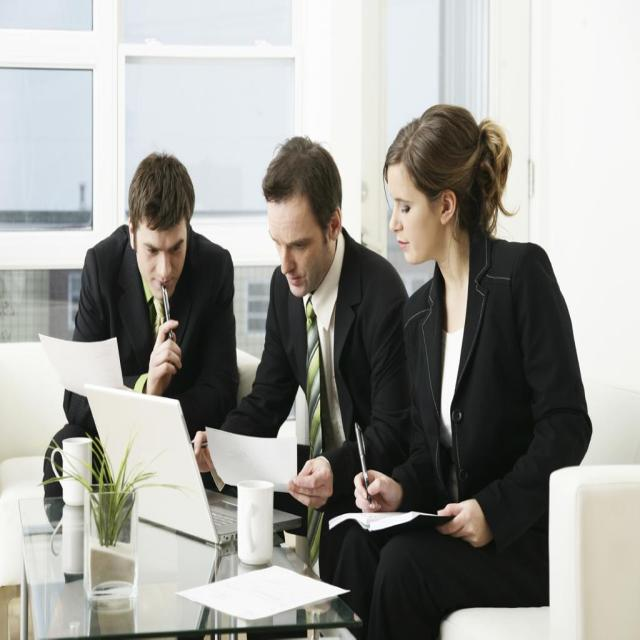Face: (261, 196, 333, 307), (130, 211, 191, 312), (385, 177, 437, 271)
